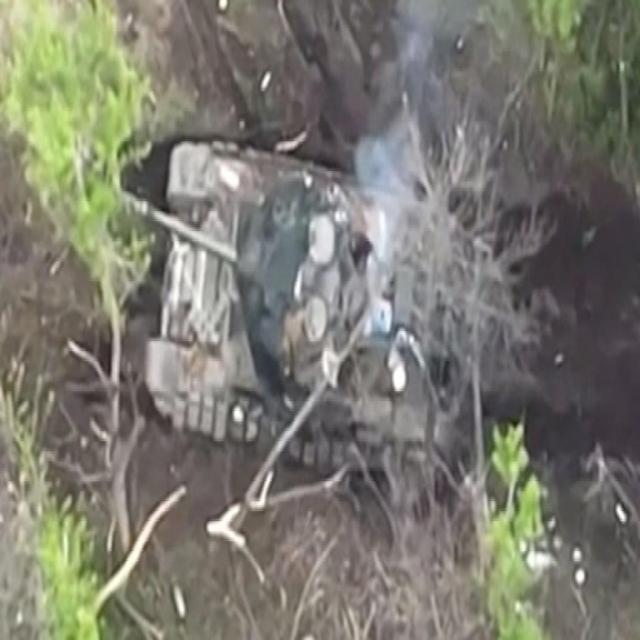TANK: (111, 118, 491, 473)
